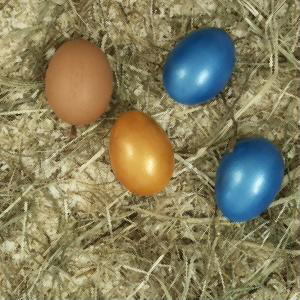egg: (45, 38, 116, 126), (215, 139, 286, 223), (107, 109, 175, 196), (163, 28, 235, 105)
